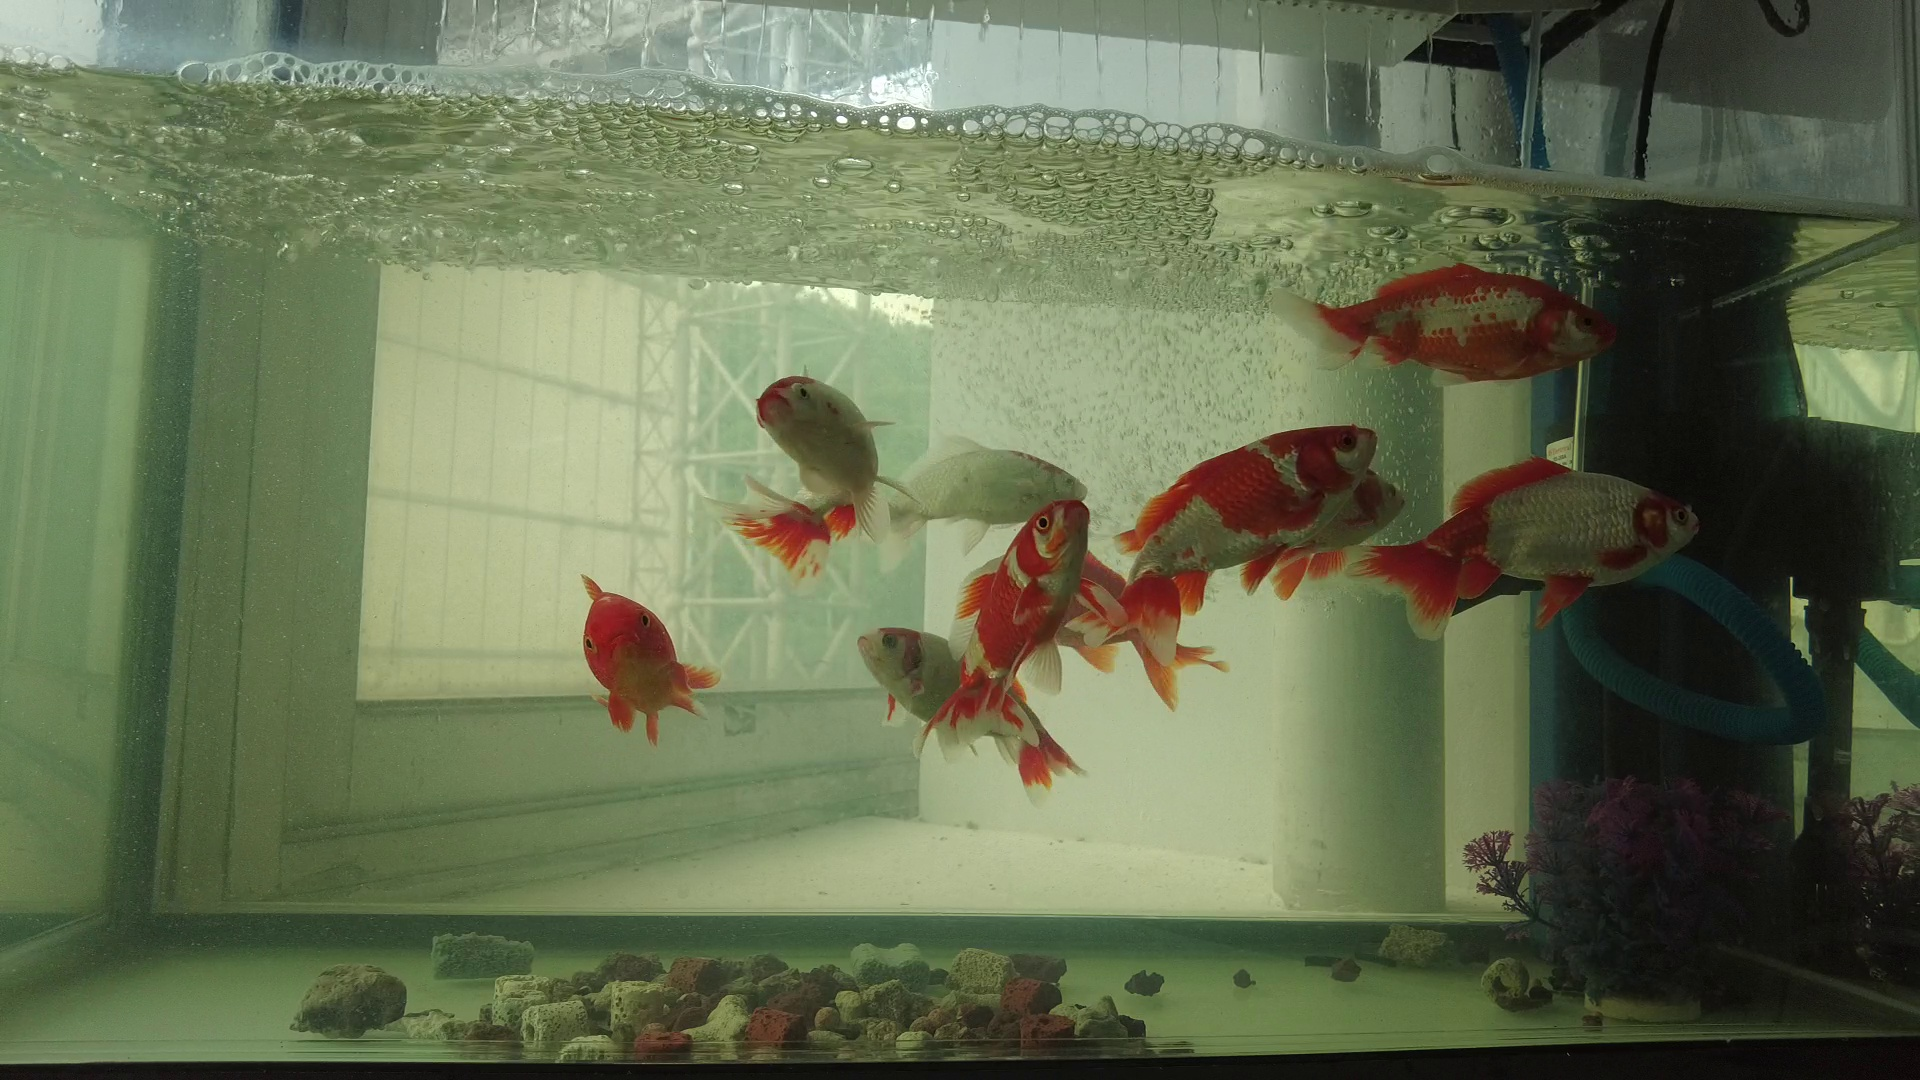fish: (1345, 451, 1706, 647), (1106, 418, 1385, 669), (905, 497, 1098, 769), (705, 361, 932, 589), (1261, 255, 1622, 396), (851, 618, 1098, 822), (1147, 462, 1419, 624), (570, 564, 728, 749), (887, 426, 1098, 560)
